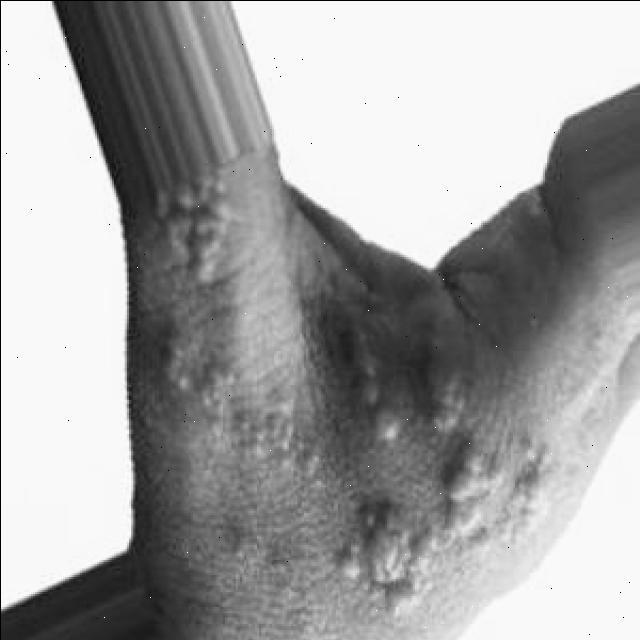Shingles: (339, 435, 555, 618), (148, 323, 319, 490), (146, 170, 246, 278), (334, 314, 399, 446), (413, 328, 467, 436)
